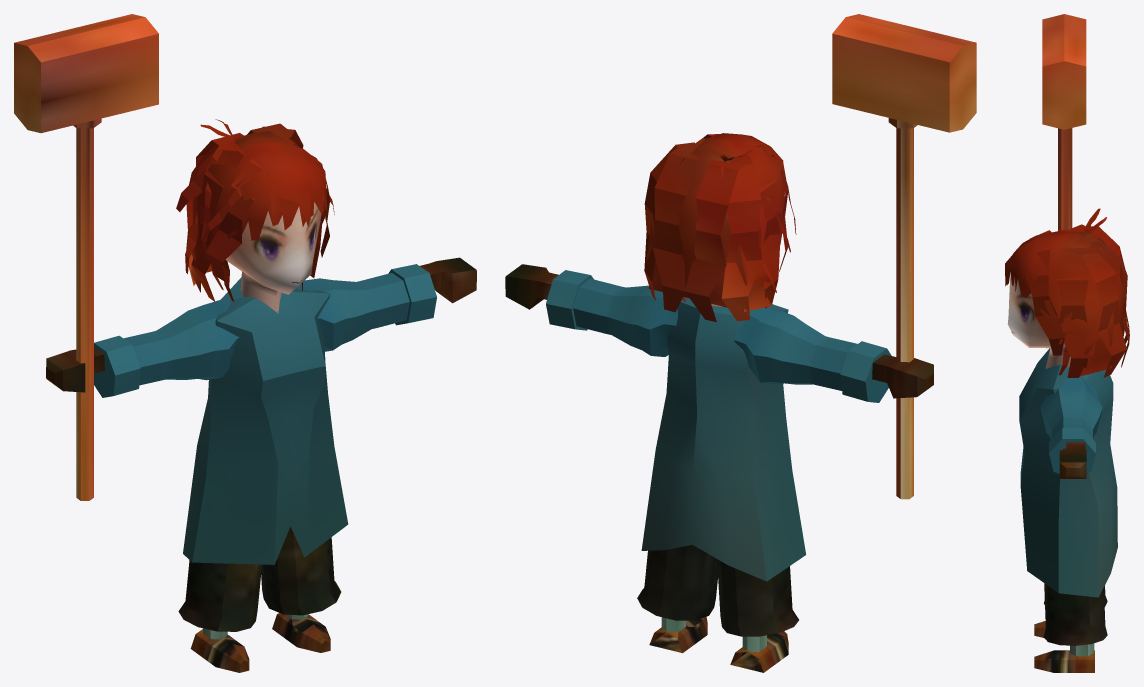
Rendered from elena.glb.
3 views of the same model, side by side, from view 1: azimuth 30°, elevation 25°; view 2: azimuth 150°, elevation 25°; view 3: azimuth 270°, elevation 25° (orthographic). The views are drawn at different scales.
Visible parts, largest first — view 1: Body, Weapon, Hair, Head, Hands; view 2: Body, Hair, Weapon, Hands; view 3: Body, Hair, Weapon, Head, Hands.
Boxes of the visible parts, bbox=[...] form: Body: bbox=[94, 264, 436, 672]; Weapon: bbox=[14, 14, 158, 500]; Hair: bbox=[176, 119, 334, 302]; Head: bbox=[225, 196, 323, 313]; Hands: bbox=[46, 257, 476, 392]; Body: bbox=[546, 270, 891, 672]; Hair: bbox=[644, 133, 796, 322]; Weapon: bbox=[832, 14, 976, 499]; Hands: bbox=[505, 264, 933, 398]; Body: bbox=[1019, 348, 1117, 672]; Hair: bbox=[1005, 208, 1129, 377]; Weapon: bbox=[1042, 14, 1086, 230]; Head: bbox=[1007, 275, 1070, 369]; Hands: bbox=[1059, 442, 1086, 478].
Bounding box in the file's own units: 1.86 × 2.61 × 0.5467.
2 materials, 2 textured.
